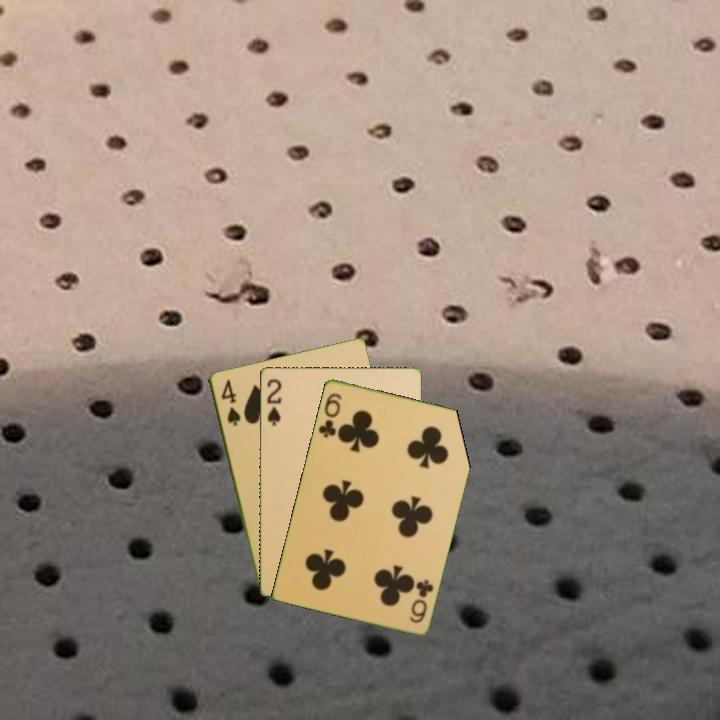2s: (263, 375, 284, 428)
4s: (217, 375, 243, 429)
6c: (315, 389, 345, 440), (406, 576, 436, 626)
